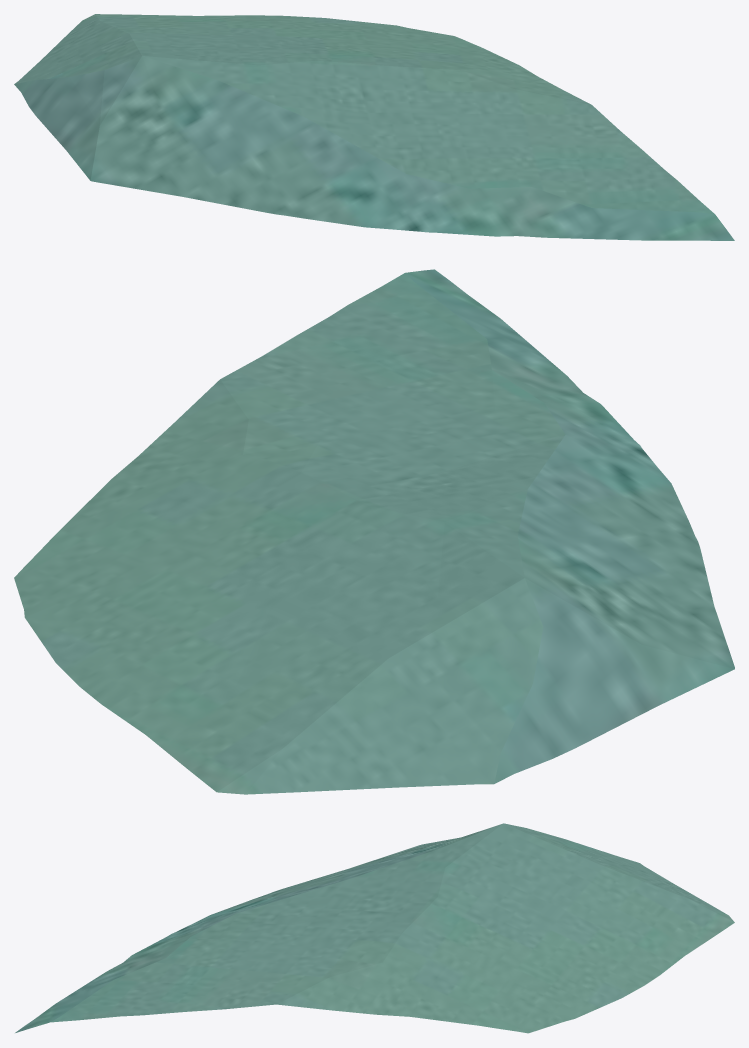
Rendered from Tile_+008_+007_L19_00250.glb.
3 views of the same model, one above another, from view 1: azimuth 30°, elevation 25°; view 2: azimuth 150°, elevation 25°; view 3: azimuth 270°, elevation 25° (orthographic). The views are drawn at different scales.
Parts seen in each view (by area): view 1: rtc; view 2: rtc; view 3: rtc.
Part boxes in pixels (x1,y1,x2,y2): rtc: (14, 14, 734, 240); rtc: (14, 269, 734, 794); rtc: (15, 823, 734, 1033).
Bounding box in the file's own units: 9.41 × 1.48 × 15.15.
Materials: 1 (1 with a texture image).
